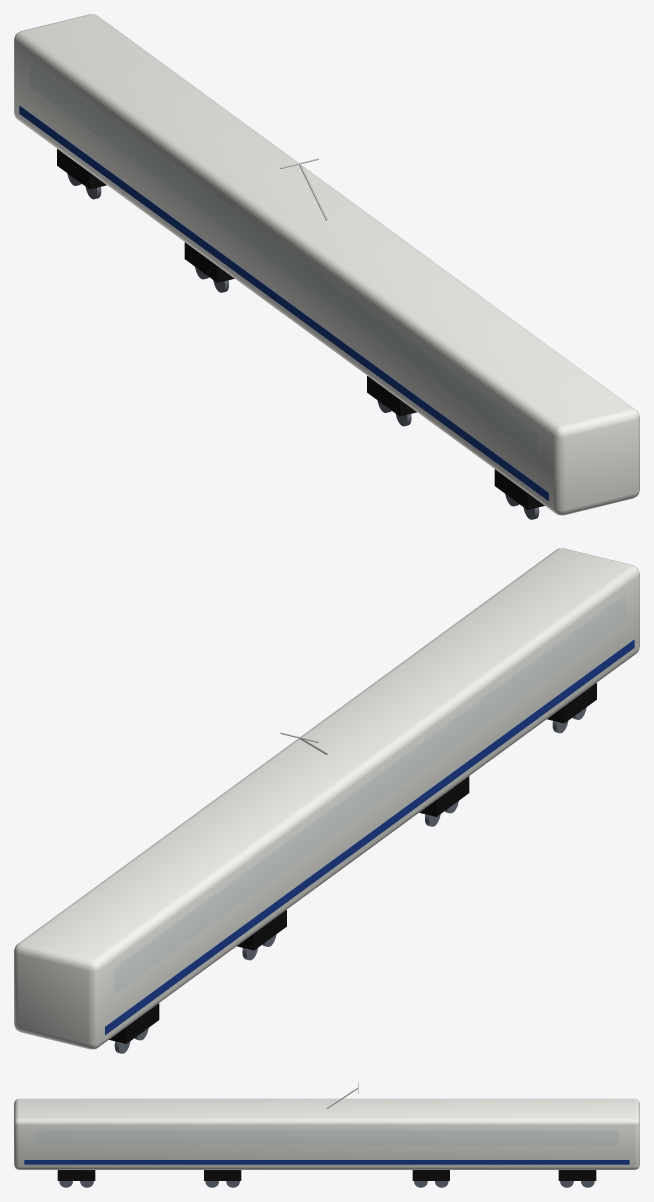
The model's file is rail.train.tram.glb.
3 renders of one model, top to bottom at view 1: azimuth 30°, elevation 25°; view 2: azimuth 150°, elevation 25°; view 3: azimuth 270°, elevation 25°, orthographic. The views are drawn at different scales.
Parts seen in each view (by area): view 1: main__paint_white, main__glass, main__plastic_blue, main__plastic_black, main__steel_painted; view 2: main__paint_white, main__glass, main__plastic_blue, main__plastic_black, main__steel_painted; view 3: main__paint_white, main__glass, main__plastic_blue, main__plastic_black, main__steel_painted.
Part boxes in pixels (x1,y1,x2,y2): main__paint_white: [14, 14, 639, 515]; main__glass: [29, 61, 539, 459]; main__plastic_blue: [19, 105, 548, 500]; main__plastic_black: [57, 149, 544, 509]; main__steel_painted: [67, 173, 539, 519]; main__paint_white: [14, 548, 639, 1049]; main__glass: [114, 595, 624, 993]; main__plastic_blue: [105, 639, 634, 1034]; main__plastic_black: [109, 683, 596, 1043]; main__steel_painted: [114, 707, 586, 1053]; main__paint_white: [14, 1098, 639, 1169]; main__glass: [35, 1130, 618, 1144]; main__plastic_blue: [24, 1160, 629, 1164]; main__plastic_black: [57, 1170, 596, 1180]; main__steel_painted: [59, 1181, 594, 1187].
Bounding box in the file's own units: 2.72 × 4.92 × 30.
